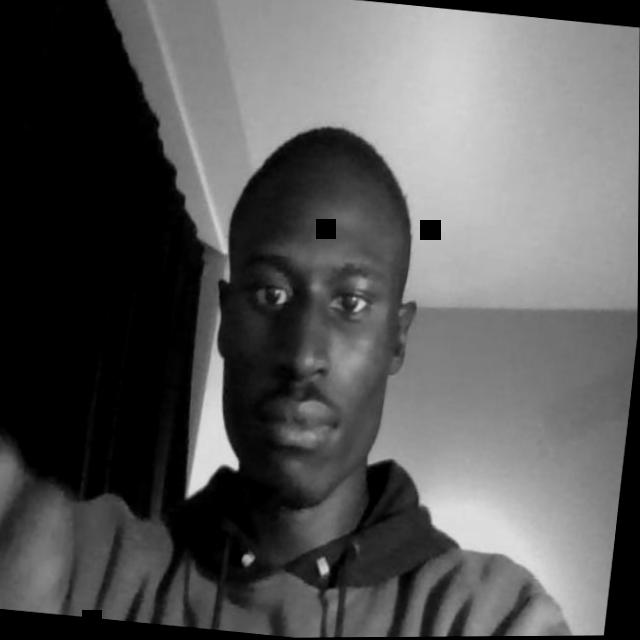NO-Mask: (203, 198, 407, 521)
